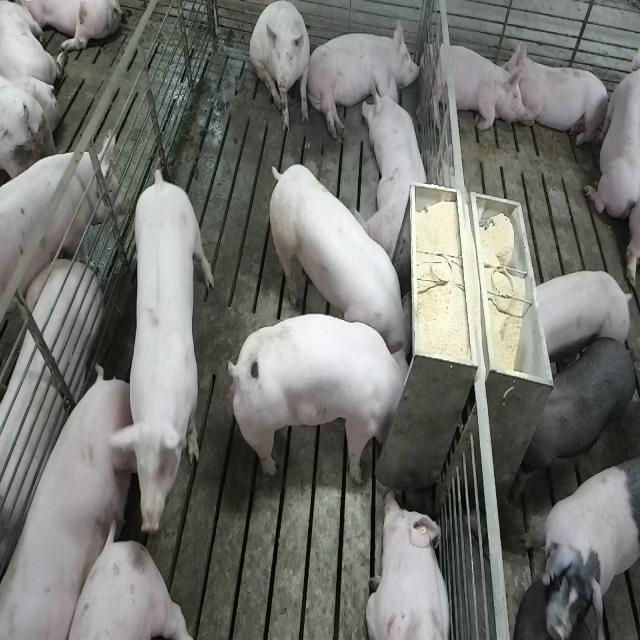Feeding: (226, 317, 411, 489), (263, 160, 412, 357)
Lateral_lying: (306, 16, 422, 141)
Sitting: (250, 1, 312, 134)
Standing: (120, 170, 210, 542), (0, 149, 119, 346), (508, 337, 638, 508), (525, 444, 637, 611), (532, 272, 631, 361)
Sternal_lying: (3, 366, 146, 640), (365, 487, 452, 640), (366, 72, 433, 260), (510, 44, 612, 150), (424, 36, 524, 135), (584, 36, 637, 222)
